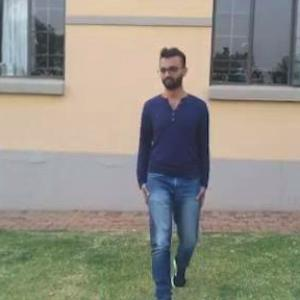follow: (134, 33, 219, 299)
